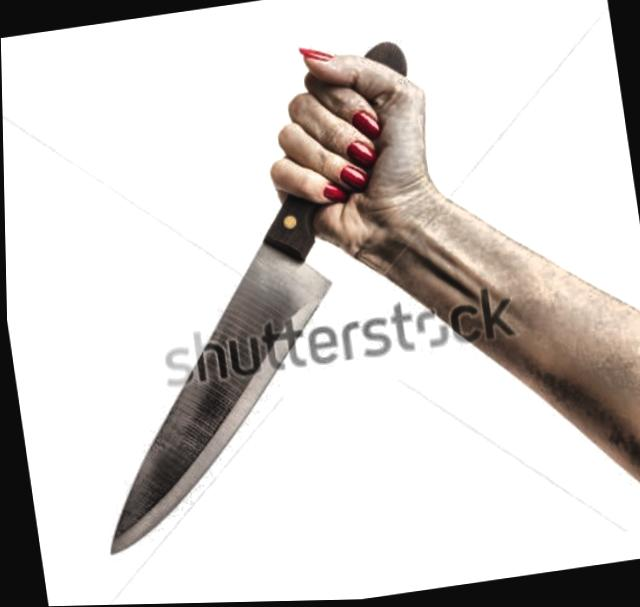knife: (41, 132, 428, 565)
